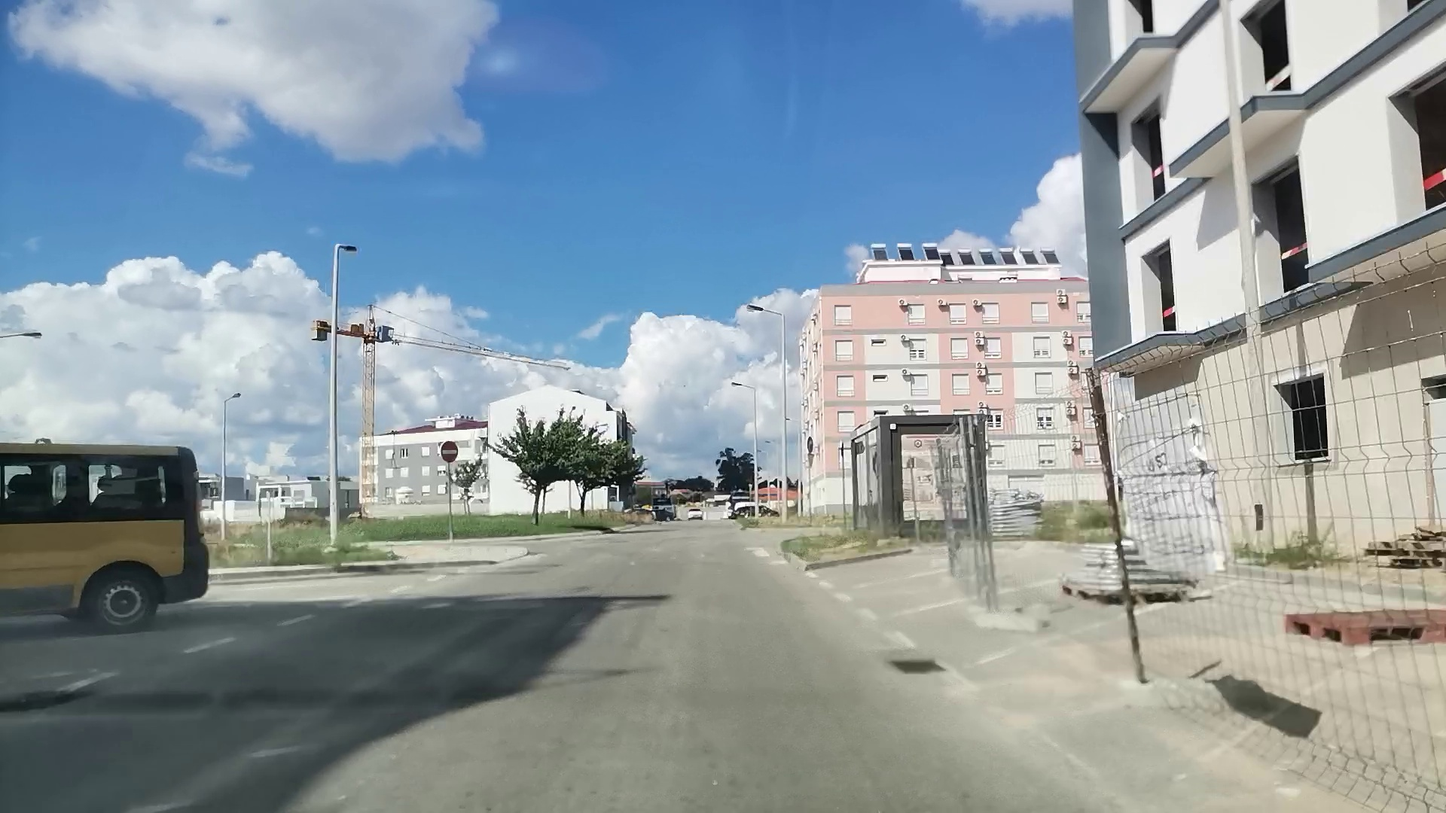Stairs: (513, 543, 776, 561)
